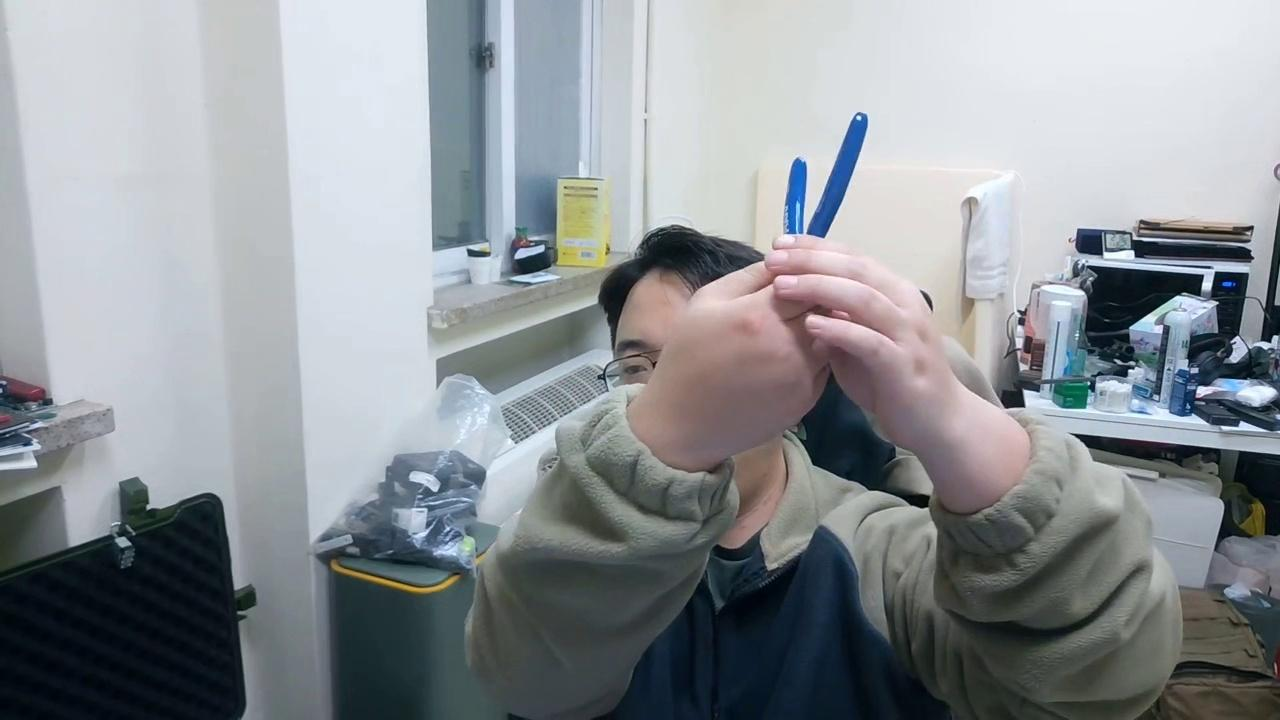blue_pliers: (770, 110, 872, 488)
